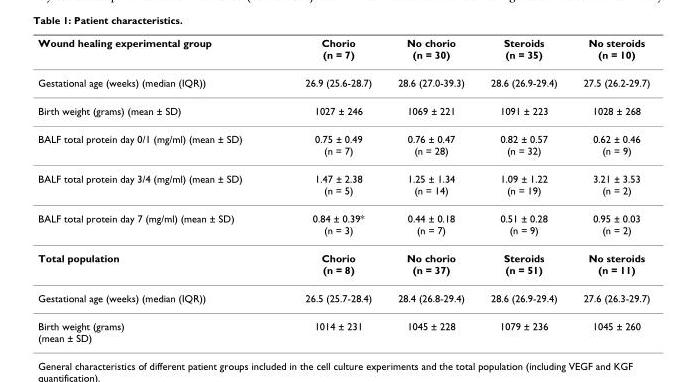table: (37, 36, 649, 343)
table column: (37, 36, 273, 343), (273, 36, 384, 343), (476, 36, 569, 343), (384, 36, 476, 343), (569, 36, 649, 343)
table column header: (37, 36, 649, 68)
table row: (37, 124, 649, 164), (37, 164, 649, 204), (37, 243, 649, 283), (37, 204, 649, 243), (37, 36, 649, 68), (37, 311, 649, 343), (37, 68, 649, 96), (37, 96, 649, 124), (37, 283, 649, 311)
